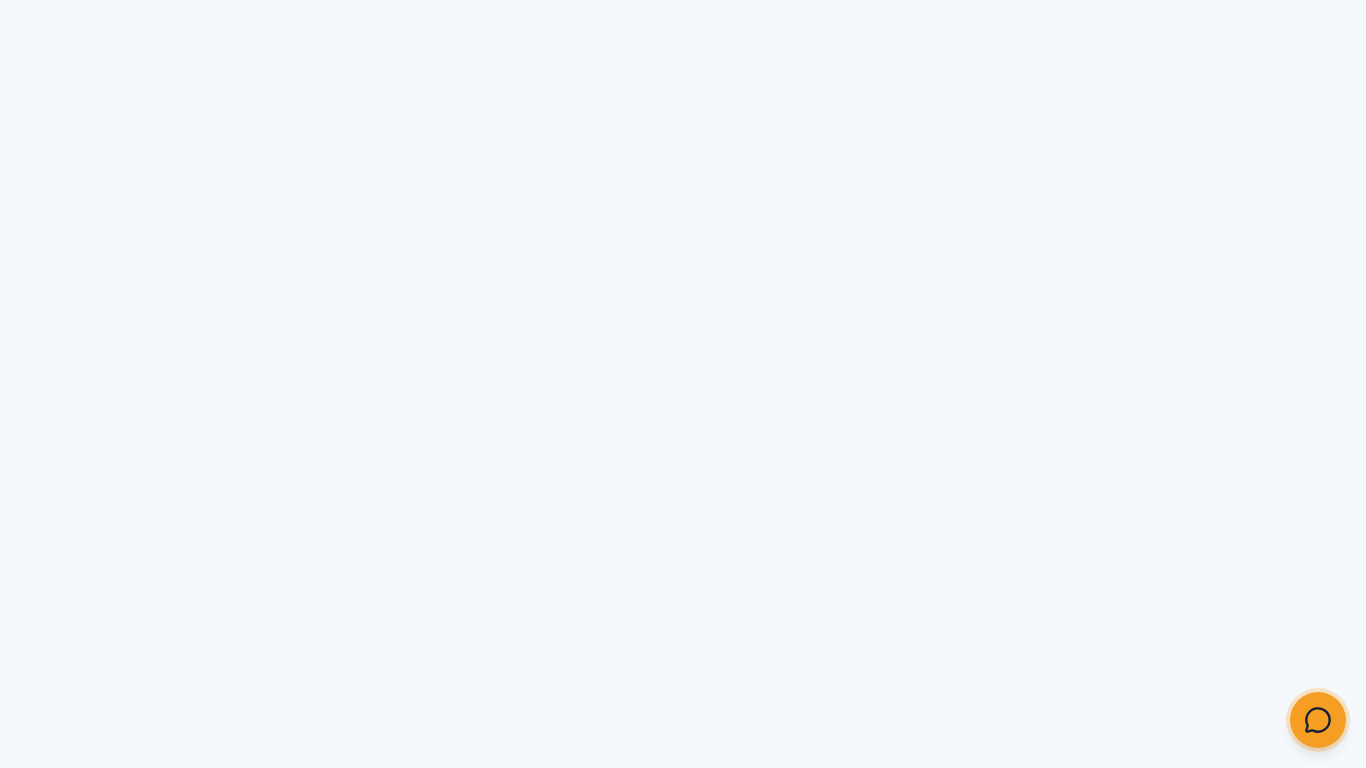
Test: mantiene el contexto inmediato del curso
Click the button named "Abrir Asistente Virtual COA" at (1318, 720), box top-left (1290, 692), bottom-right (1346, 748)
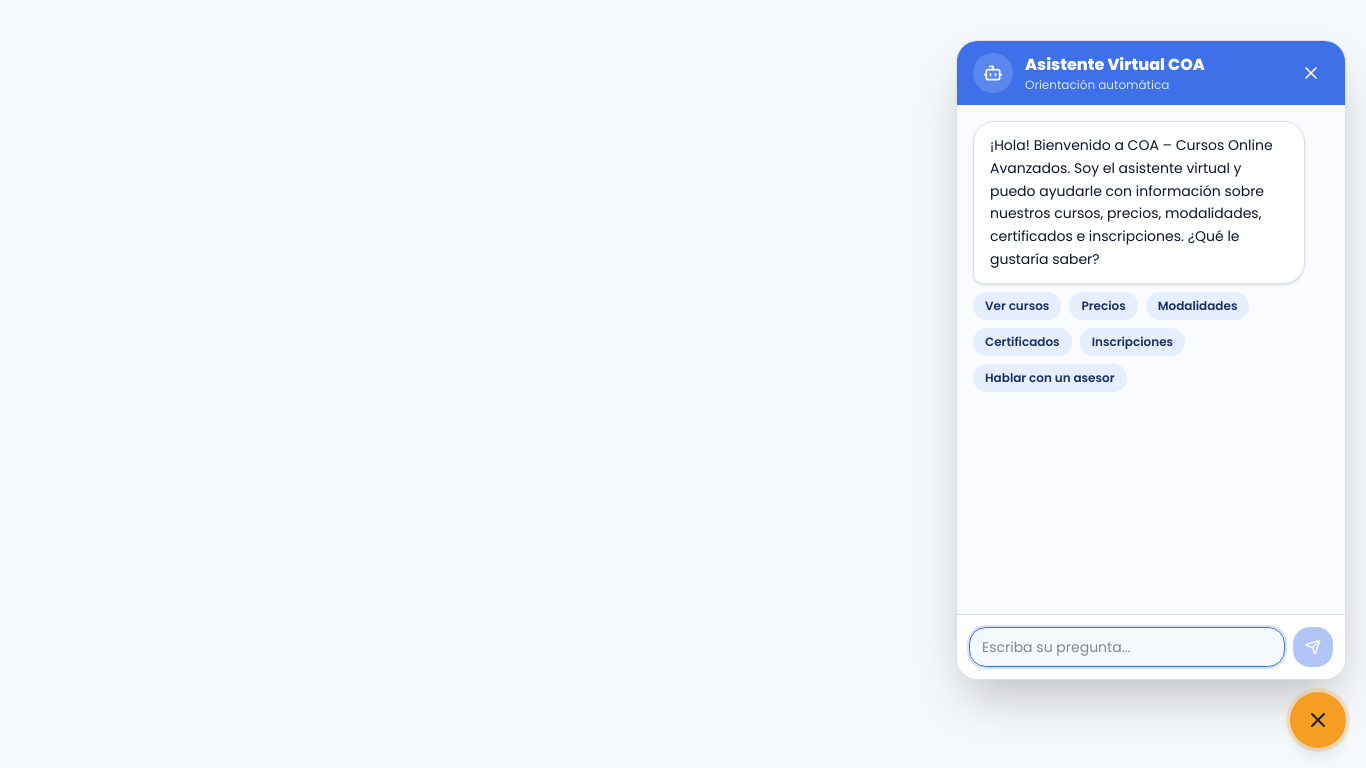
Type "¿Cuánto cuesta Python Básico?" into the field labelled "Escriba su pregunta" at (1127, 647), box top-left (969, 627), bottom-right (1285, 667)
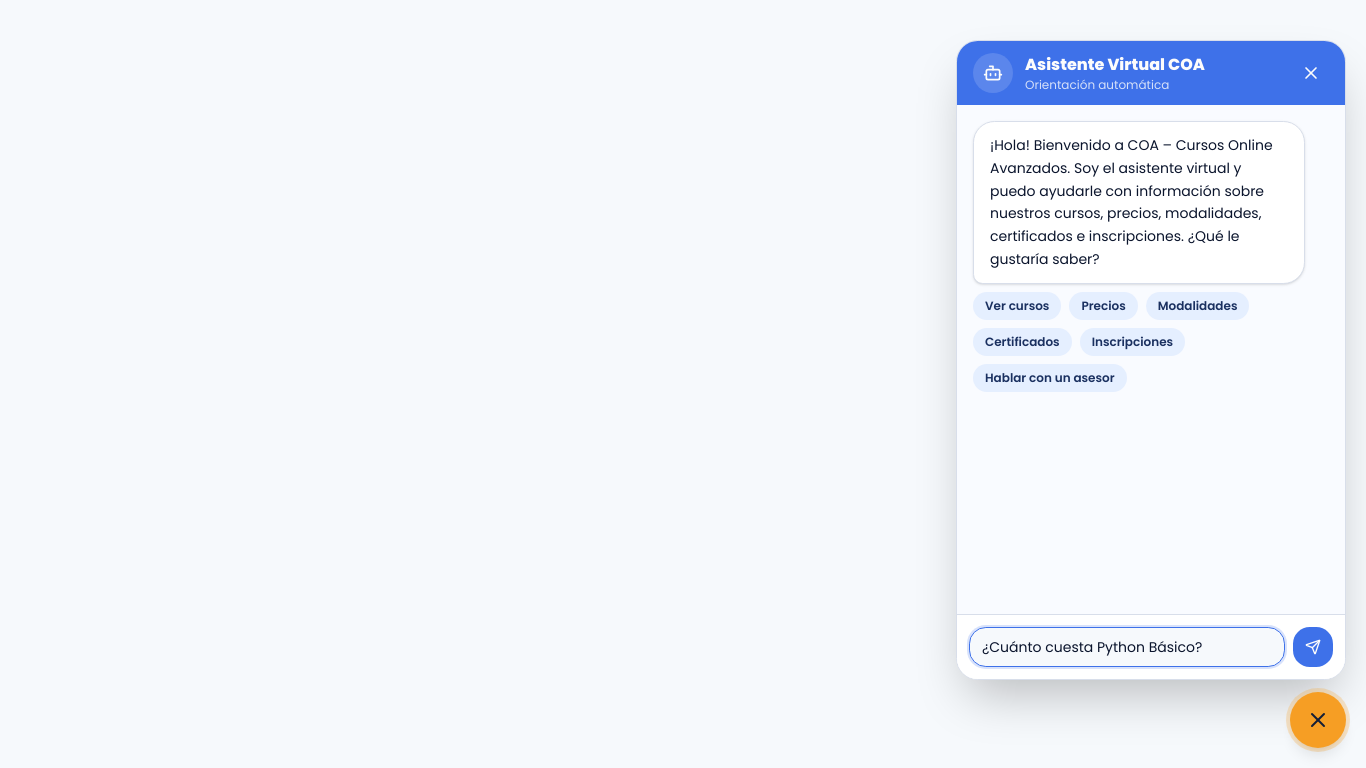
Click the button named "Enviar pregunta" at (1313, 647), box top-left (1293, 627), bottom-right (1333, 667)
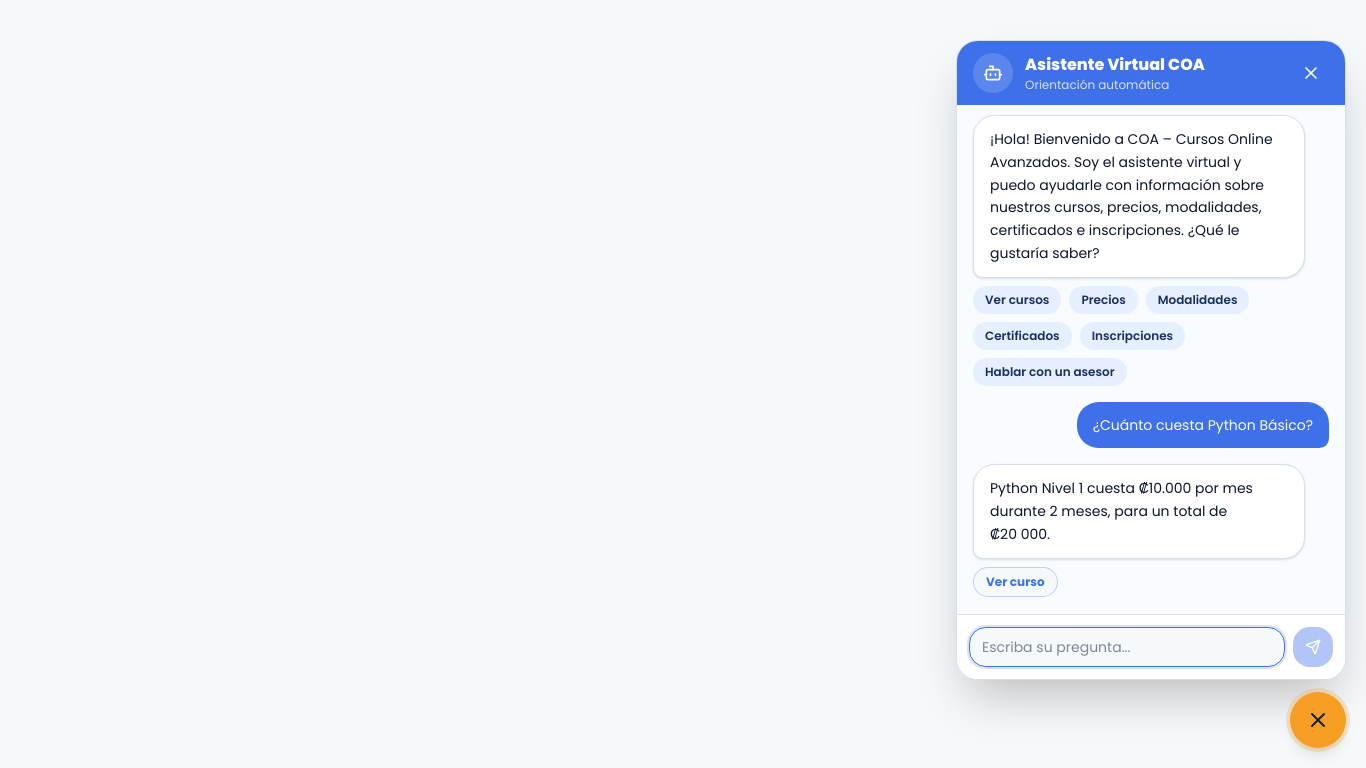
Type "¿Y cuánto dura?" into the field labelled "Escriba su pregunta" at (1127, 647), box top-left (969, 627), bottom-right (1285, 667)
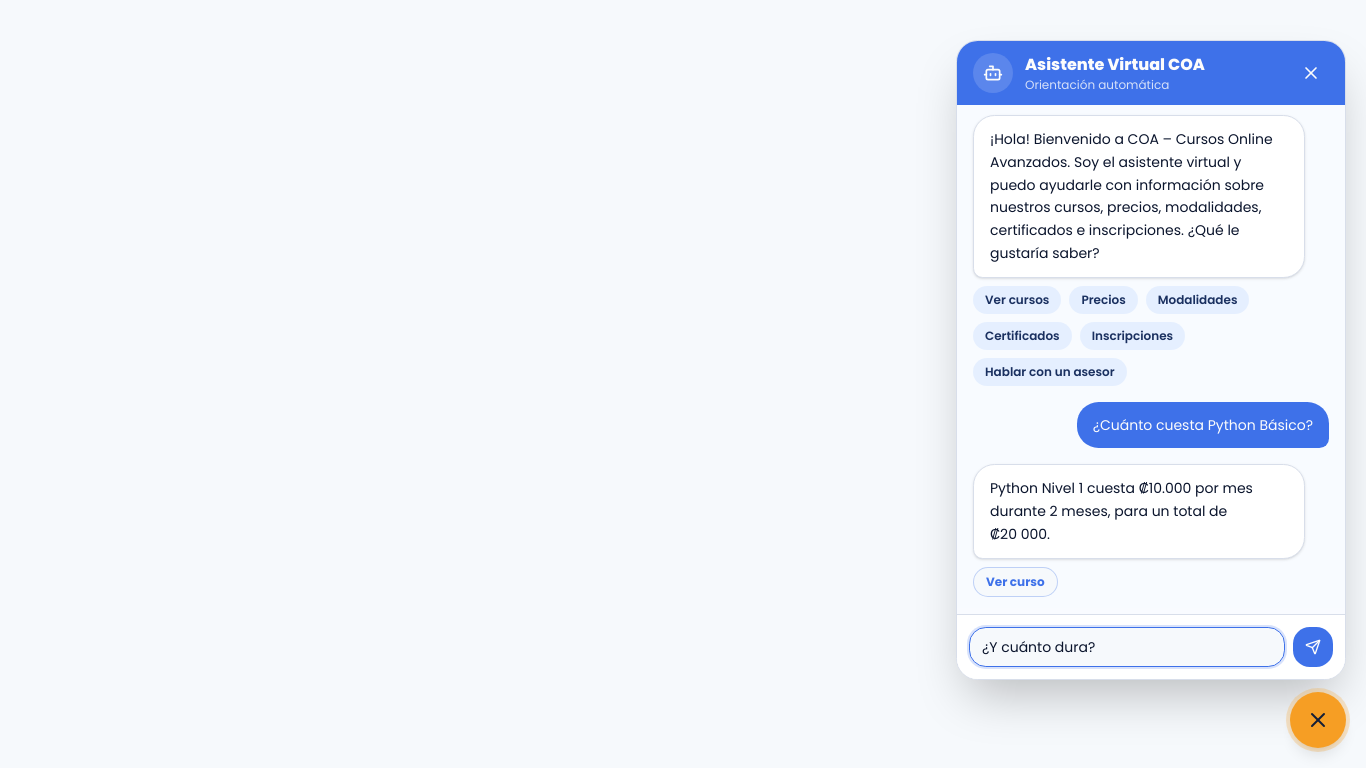
Click the button named "Enviar pregunta" at (1313, 647), box top-left (1293, 627), bottom-right (1333, 667)
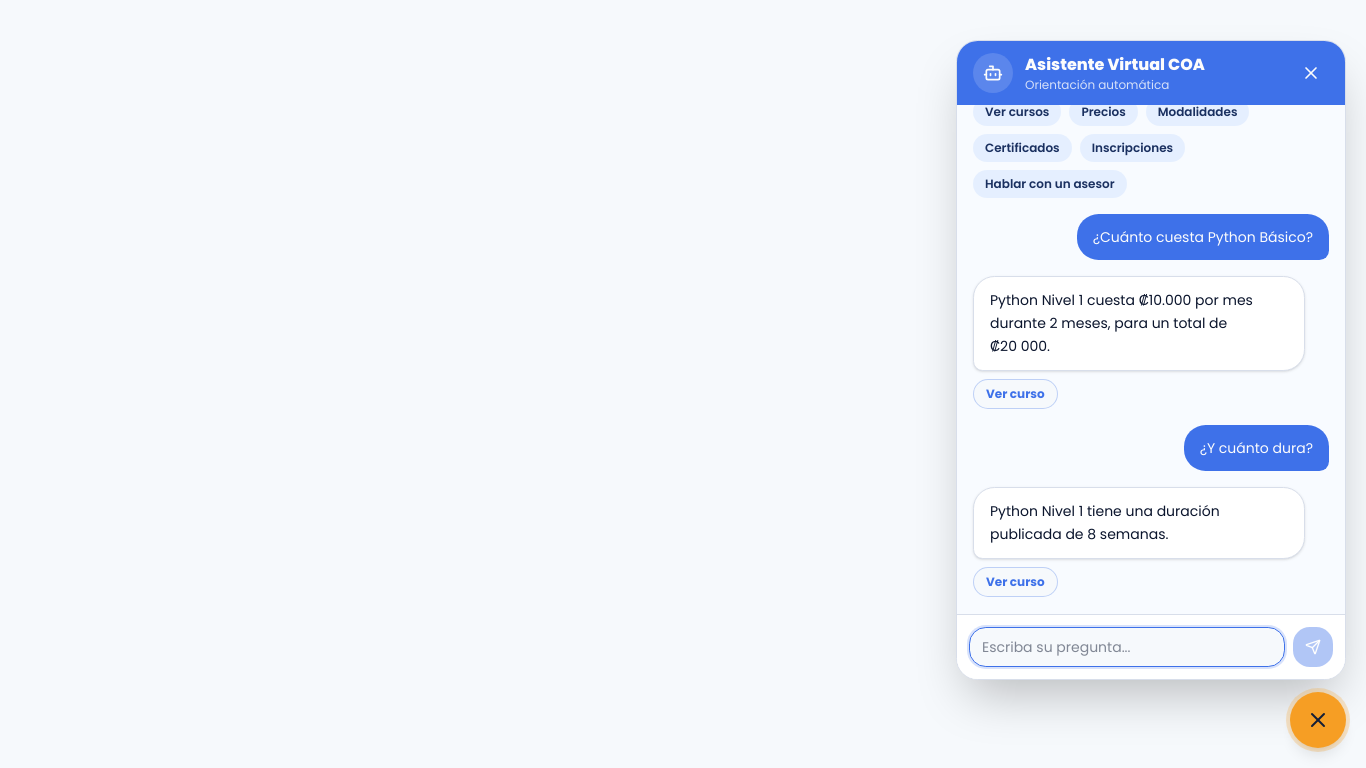
Expected: the text "Python Nivel 1 tiene una duración publicada de 8 semanas." is shown, top-left (973, 487), bottom-right (1305, 559)
